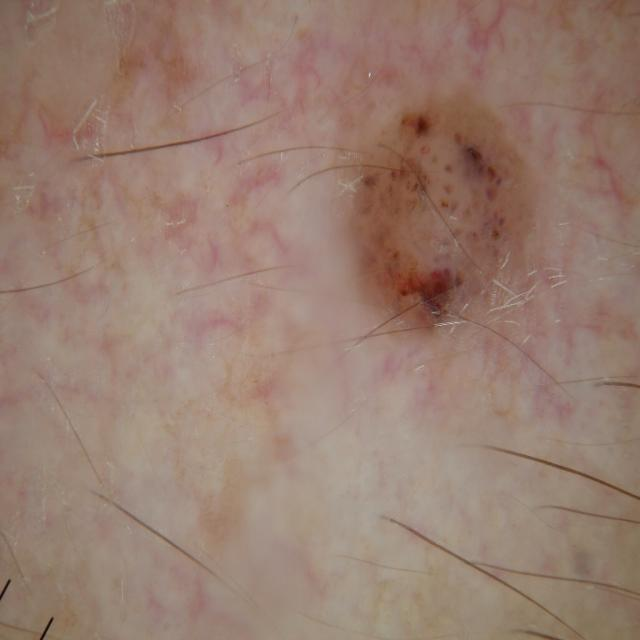Skin-Cancer Melanoma: (267, 25, 606, 531)
